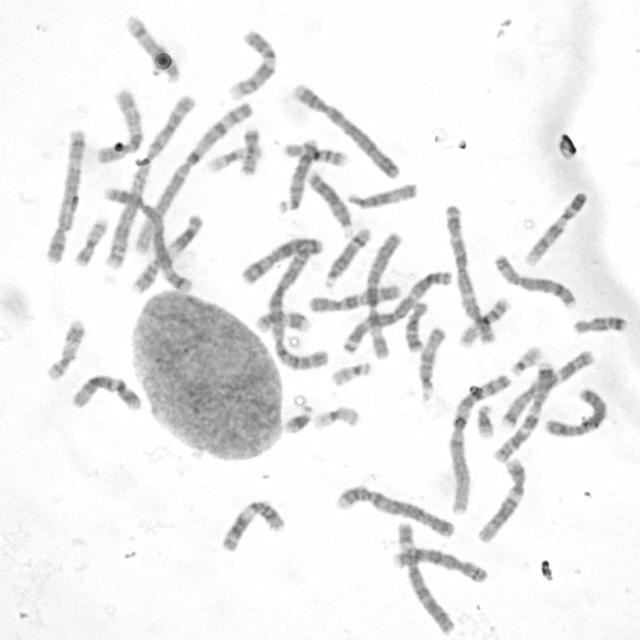A1: (131, 97, 258, 257), (445, 370, 512, 517)
A2: (103, 92, 197, 274), (265, 239, 331, 372)
A3: (338, 266, 454, 355), (442, 199, 496, 345)
B4: (291, 79, 402, 181), (333, 482, 457, 539)
B5: (100, 185, 196, 295), (41, 124, 86, 266)
C10: (92, 84, 144, 166), (304, 280, 404, 314)
C11: (128, 211, 205, 295), (217, 496, 287, 555)
C12: (473, 455, 528, 544), (68, 371, 145, 413)
C6: (394, 517, 457, 636), (357, 228, 404, 364)
C7: (496, 347, 594, 428), (491, 359, 554, 465)
C8: (490, 251, 578, 310), (389, 544, 489, 585)
C9: (521, 188, 589, 268), (225, 26, 279, 102)
D13: (274, 134, 320, 215), (305, 168, 354, 236)
D14: (125, 13, 181, 84), (322, 223, 372, 290)
D15: (415, 324, 447, 403), (342, 178, 420, 210)
E16: (455, 293, 512, 349), (279, 140, 349, 168)
E17: (43, 317, 87, 381), (253, 307, 311, 335)
E18: (401, 298, 430, 353), (570, 312, 628, 336)
F19: (201, 141, 259, 174), (310, 402, 362, 433)
F20: (71, 214, 109, 268), (237, 125, 263, 178)
G21: (281, 401, 315, 435), (473, 401, 496, 440)
G22: (328, 358, 374, 387), (508, 342, 544, 377)
X: (238, 234, 326, 288), (540, 383, 608, 439)
